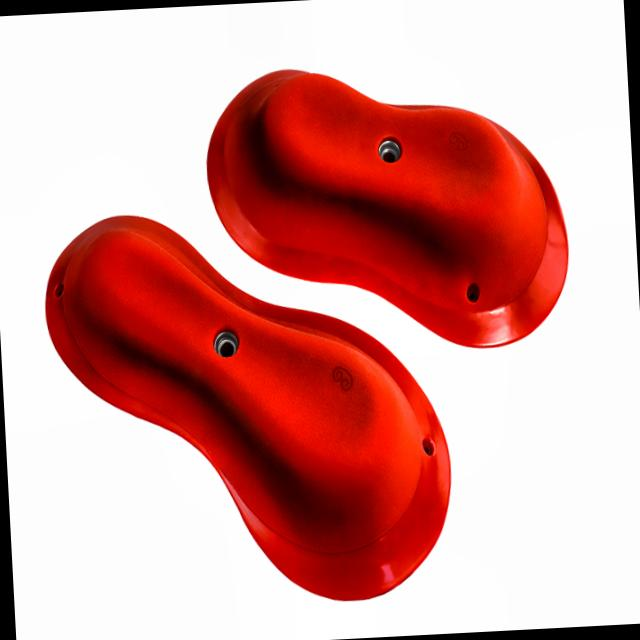Hold: (29, 193, 478, 615), (196, 52, 581, 367)
